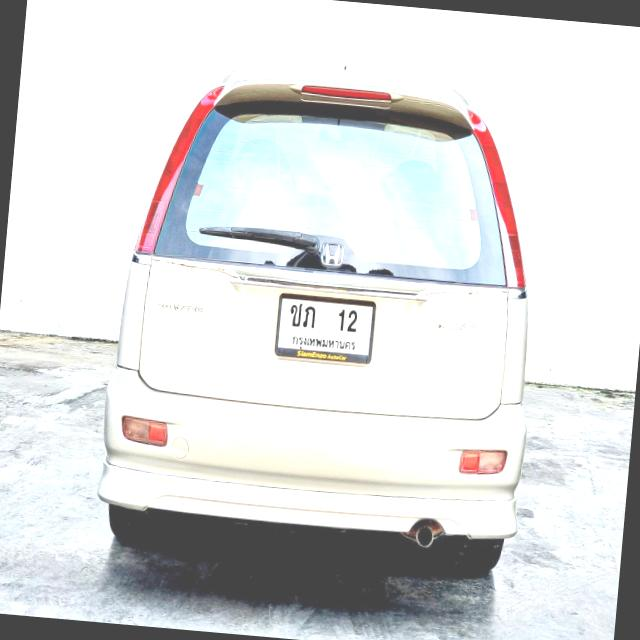license_plate: (270, 288, 380, 373)
